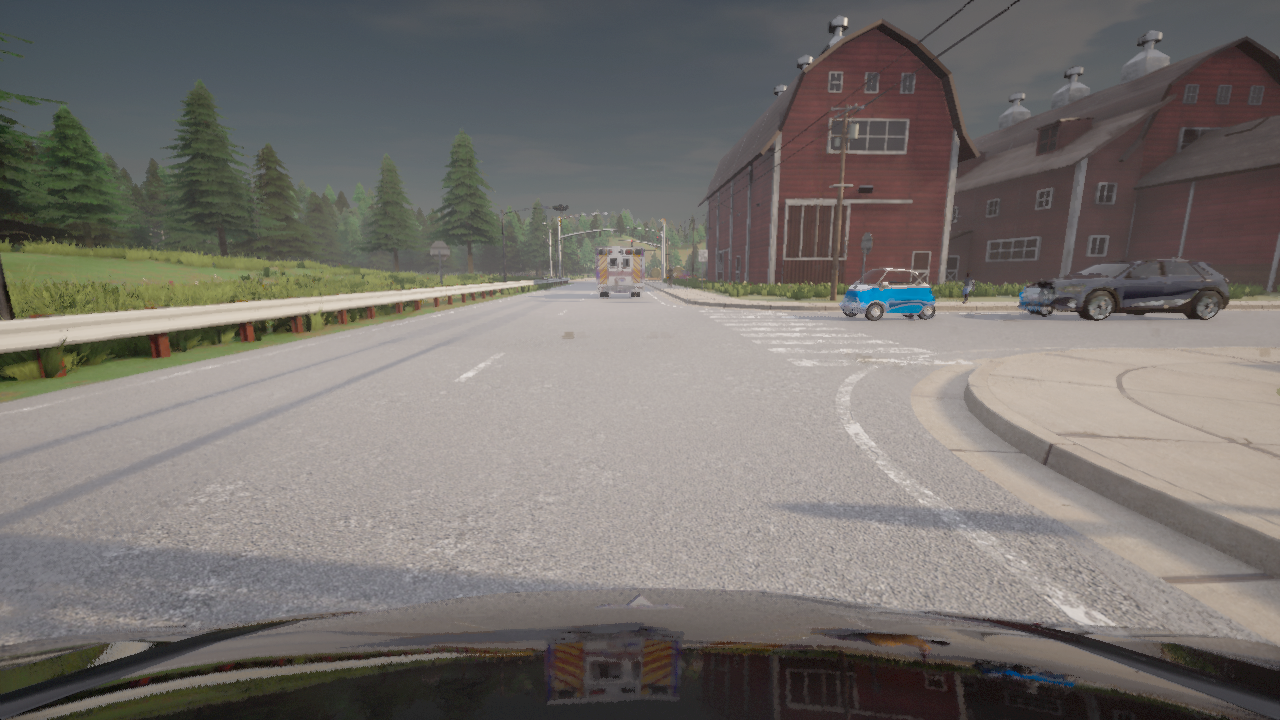cyclist: (0, 588, 1279, 719), (1018, 257, 1230, 320), (838, 267, 936, 321), (596, 247, 643, 296), (673, 271, 697, 277), (506, 271, 529, 276)
pedestrian: (959, 271, 973, 301), (667, 264, 673, 286)
